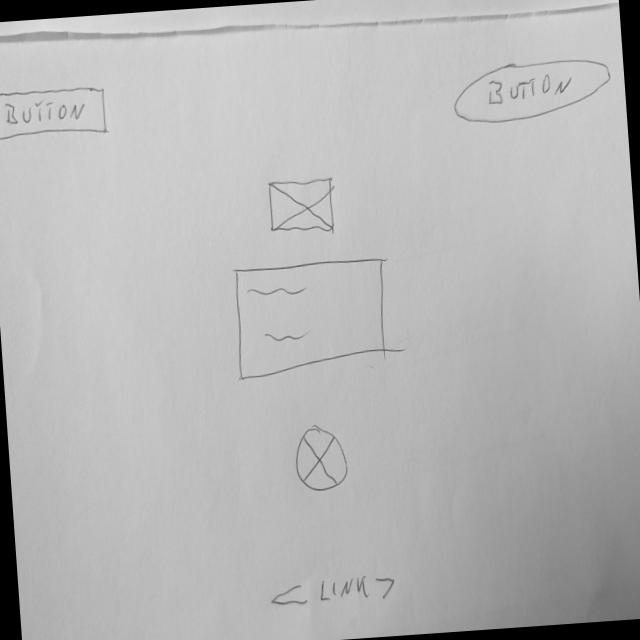button: (449, 55, 615, 129), (1, 81, 114, 147)
image: (267, 174, 339, 238), (291, 422, 352, 496)
link: (269, 570, 400, 611)
textarea: (229, 255, 393, 386)
